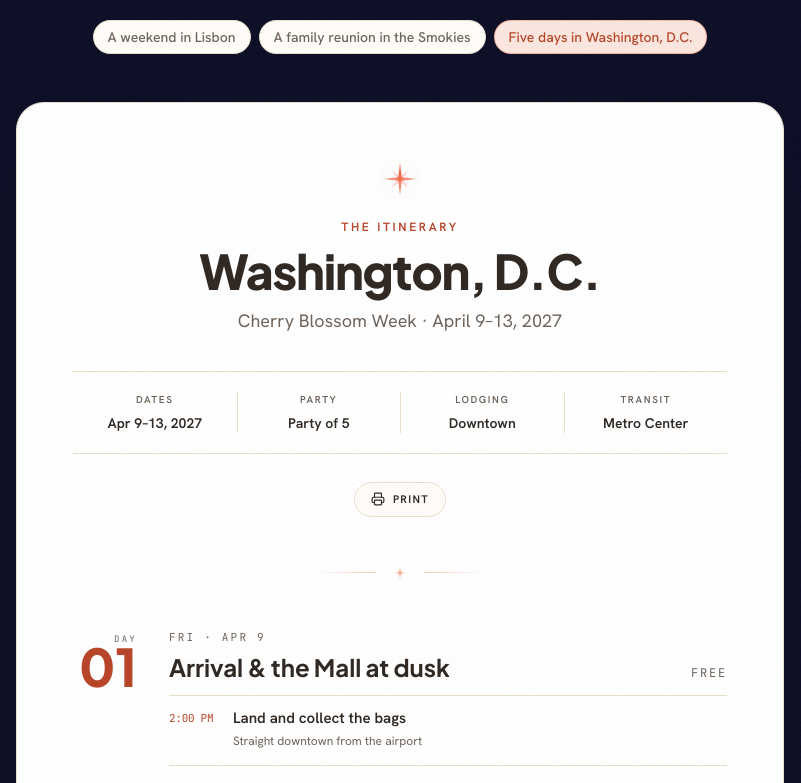
ExamplePicker › hands each trip its own forecast
Click the button "A weekend in Lisbon" at point(172, 37), box [92, 20, 250, 54]
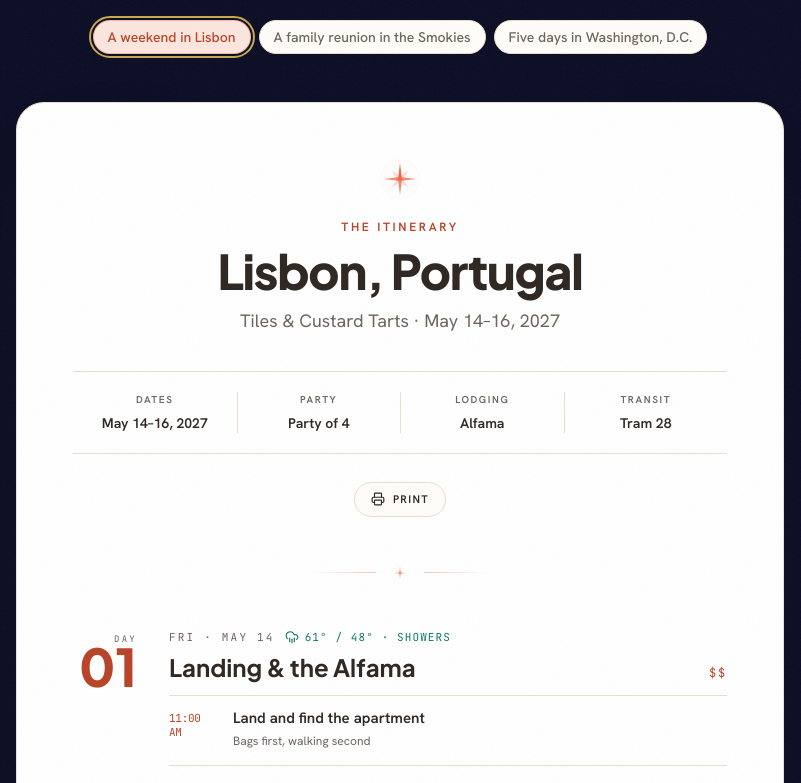
Expected: the element titled "61° / 48° · Showers" is shown, [285, 628, 451, 645]
